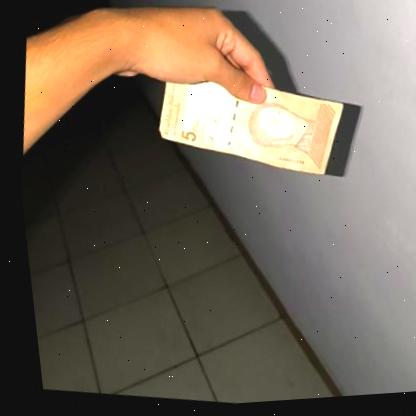vef_front: (146, 70, 351, 191)
